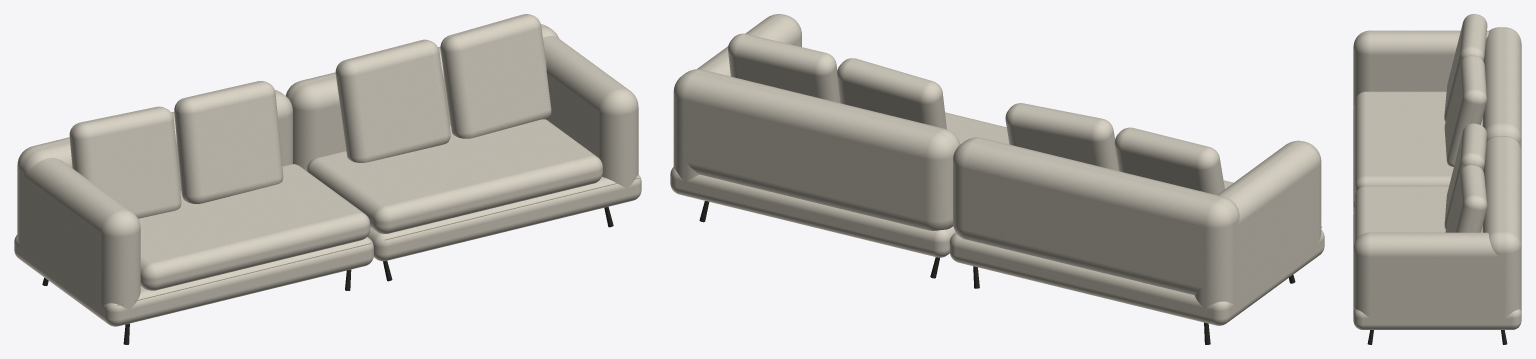
File: sysdesign-ella-4s-plain.glb
3 views of the same model, side by side, from view 1: azimuth 30°, elevation 25°; view 2: azimuth 150°, elevation 25°; view 3: azimuth 270°, elevation 25° (orthographic). The views are drawn at different scales.
Parts seen in each view (by area): view 1: included soft cushion (×4), single broad seat cushion (×2), rounded outer arm (×2), module upholstered base (×2), rounded upholstered back (×2), Sysdesign Ella 4 seat oat beige plain; view 2: rounded upholstered back (×2), included soft cushion (×4), module upholstered base (×2), rounded outer arm (×2), single broad seat cushion; view 3: rounded outer arm (×2), single broad seat cushion (×2), rounded upholstered back (×2), included soft cushion (×4), module upholstered base (×2).
Boxes of the visible parts, left/top/right/bottom form: included soft cushion (×4): left=69, top=14, right=551, bottom=218; single broad seat cushion (×2): left=138, top=119, right=602, bottom=290; rounded outer arm (×2): left=17, top=36, right=638, bottom=309; module upholstered base (×2): left=14, top=174, right=641, bottom=326; rounded upholstered back (×2): left=17, top=24, right=559, bottom=226; Sysdesign Ella 4 seat oat beige plain: left=117, top=178, right=638, bottom=305; rounded upholstered back (×2): left=673, top=69, right=1239, bottom=295; included soft cushion (×4): left=728, top=33, right=1224, bottom=194; module upholstered base (×2): left=670, top=167, right=1324, bottom=325; rounded outer arm (×2): left=673, top=14, right=1321, bottom=308; single broad seat cushion: left=945, top=112, right=1009, bottom=144; rounded outer arm (×2): left=1353, top=30, right=1521, bottom=318; single broad seat cushion (×2): left=1355, top=91, right=1482, bottom=240; rounded upholstered back (×2): left=1482, top=27, right=1521, bottom=302; included soft cushion (×4): left=1444, top=14, right=1487, bottom=232; module upholstered base (×2): left=1353, top=108, right=1521, bottom=329.
Bounding box in the file's own units: 2.9 × 0.8848 × 0.95.
Materials: 3 (1 with a texture image).
